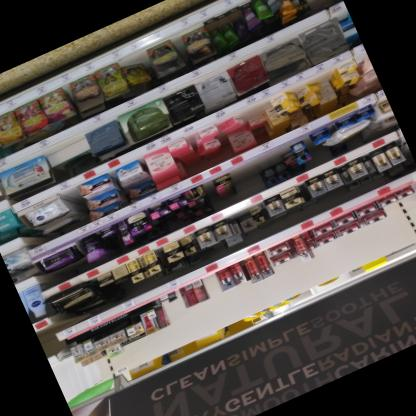empty_space: (231, 161, 263, 199), (35, 324, 63, 358), (202, 272, 224, 301)
